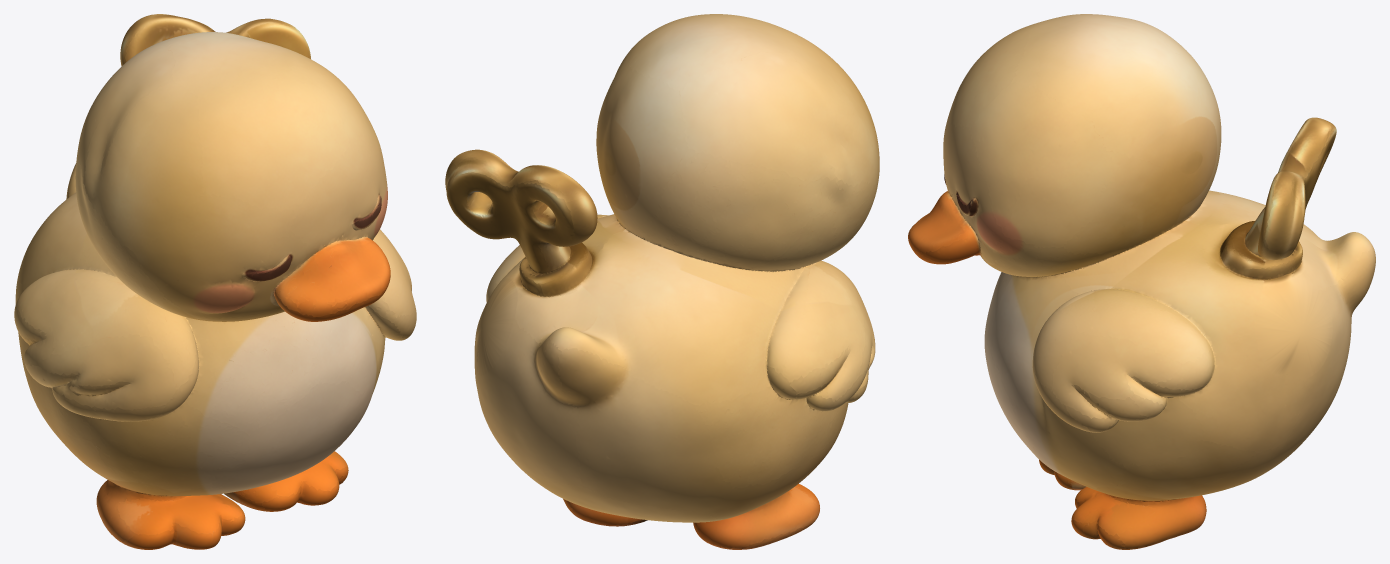
The picture shows the model from 3 angles, left to right: view 1: azimuth 30°, elevation 25°; view 2: azimuth 150°, elevation 25°; view 3: azimuth 270°, elevation 25°; orthographic projection. The views are drawn at different scales.
Parts seen in each view (by area): view 1: geometry_0; view 2: geometry_0; view 3: geometry_0.
Boxes of the visible parts, box(x1,y1,x2,y2) form: geometry_0: box(14, 14, 416, 549); geometry_0: box(445, 14, 879, 549); geometry_0: box(908, 14, 1375, 549).
Bounding box in the file's own units: 0.1192 × 0.15 × 0.1389.
2 materials, 2 textured.
